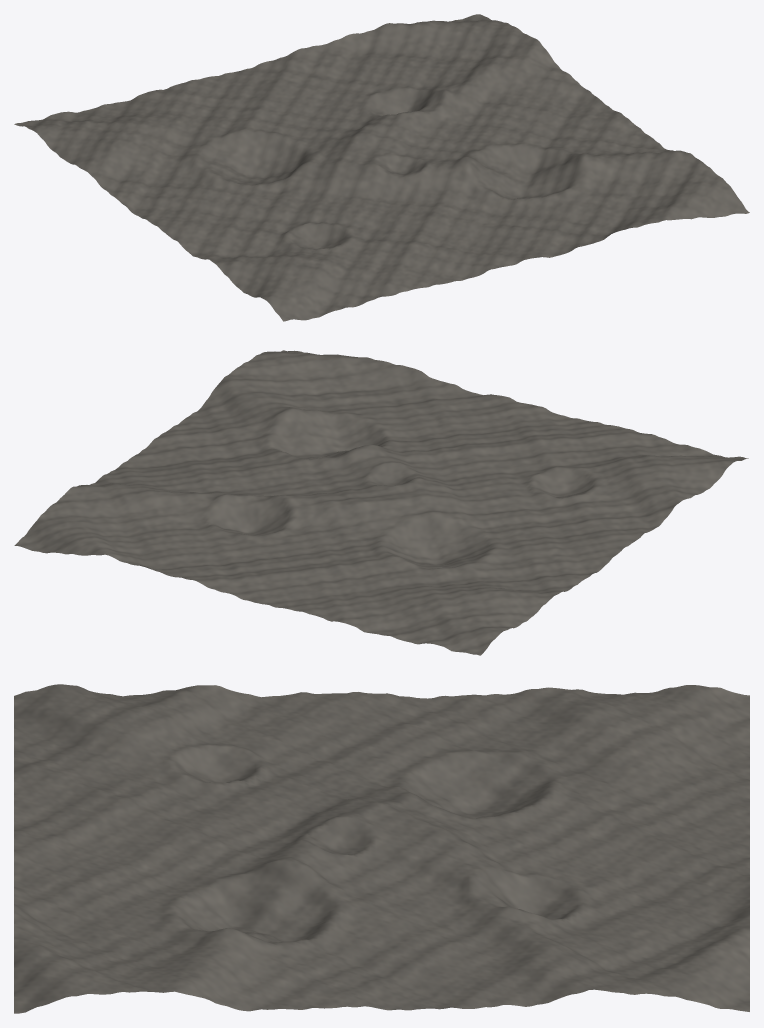
The model's file is mercury_landscape.glb.
3 renders of one model, top to bottom at view 1: azimuth 30°, elevation 25°; view 2: azimuth 150°, elevation 25°; view 3: azimuth 270°, elevation 25°, orthographic. The views are drawn at different scales.
Parts seen in each view (by area): view 1: Mercury Landscape; view 2: Mercury Landscape; view 3: Mercury Landscape.
Boxes of the visible parts, box(x1,y1,x2,y2) form: Mercury Landscape: box(14, 14, 749, 321); Mercury Landscape: box(14, 350, 748, 655); Mercury Landscape: box(14, 684, 749, 1013).
Size of the model in its own units: 760 by 48.44 by 760.
Materials: 1 (1 with a texture image).
